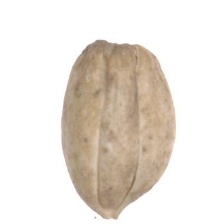L1: (84, 38, 146, 55), (88, 201, 136, 220)
L2: (61, 40, 177, 220)
